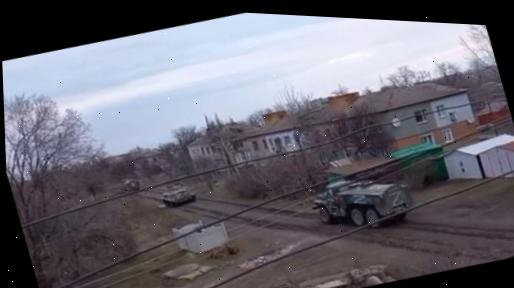tank: (155, 177, 197, 211)
truck: (304, 162, 418, 243), (117, 171, 142, 194)
